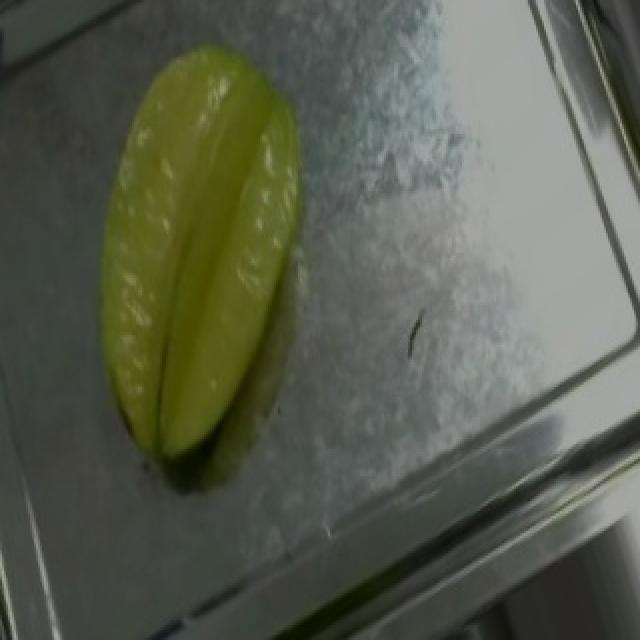fruit: (82, 12, 378, 420)
